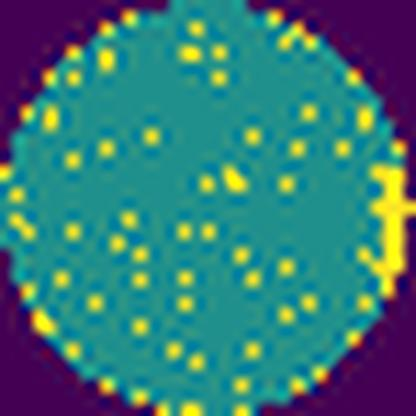Edge-Loc: (361, 153, 416, 298)
